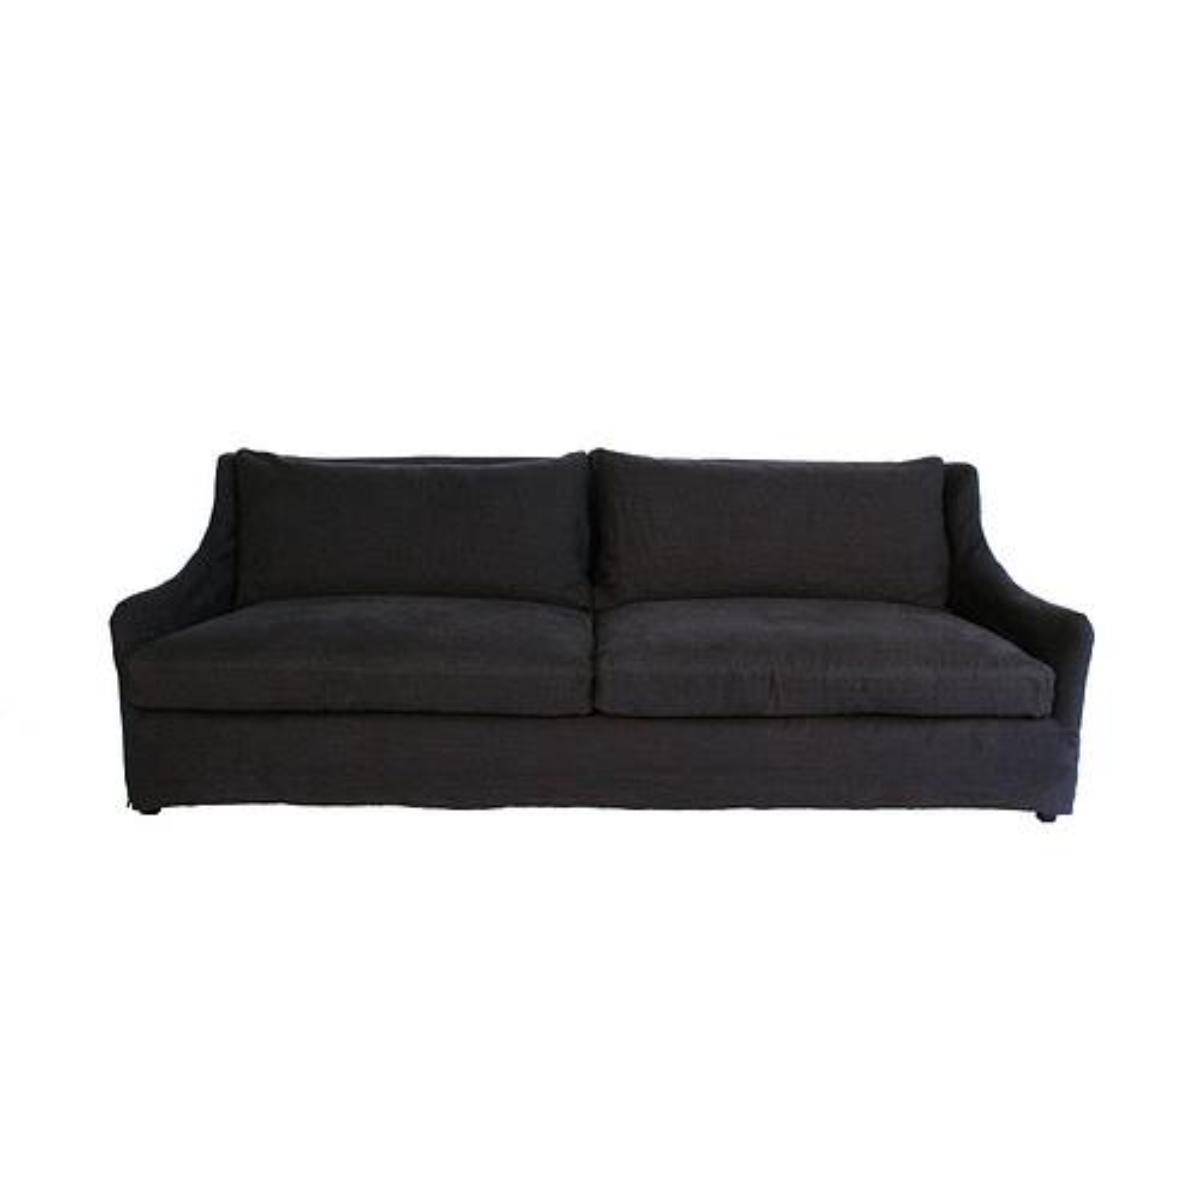Sofa: (112, 445, 1096, 832)
